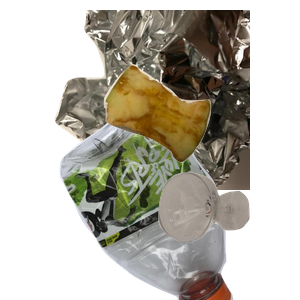glass: (156, 170, 300, 300)
metal: (52, 10, 292, 190)
plastic: (57, 120, 293, 300)
trash: (101, 62, 300, 217)
